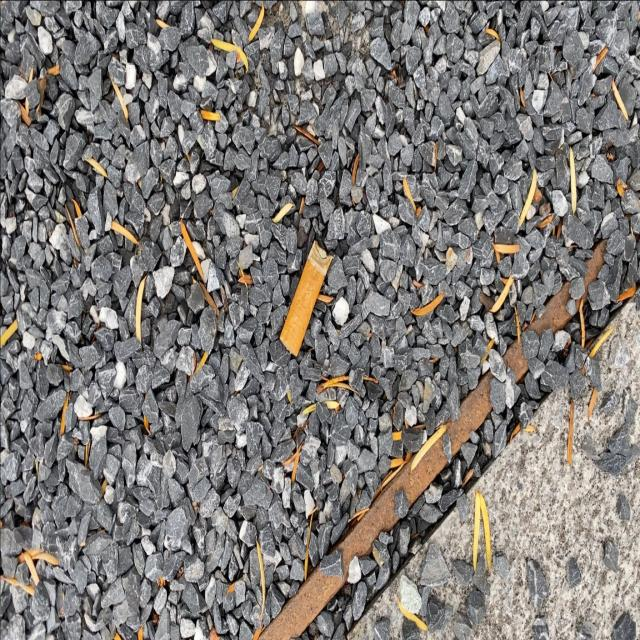other waste: (278, 233, 334, 357)
